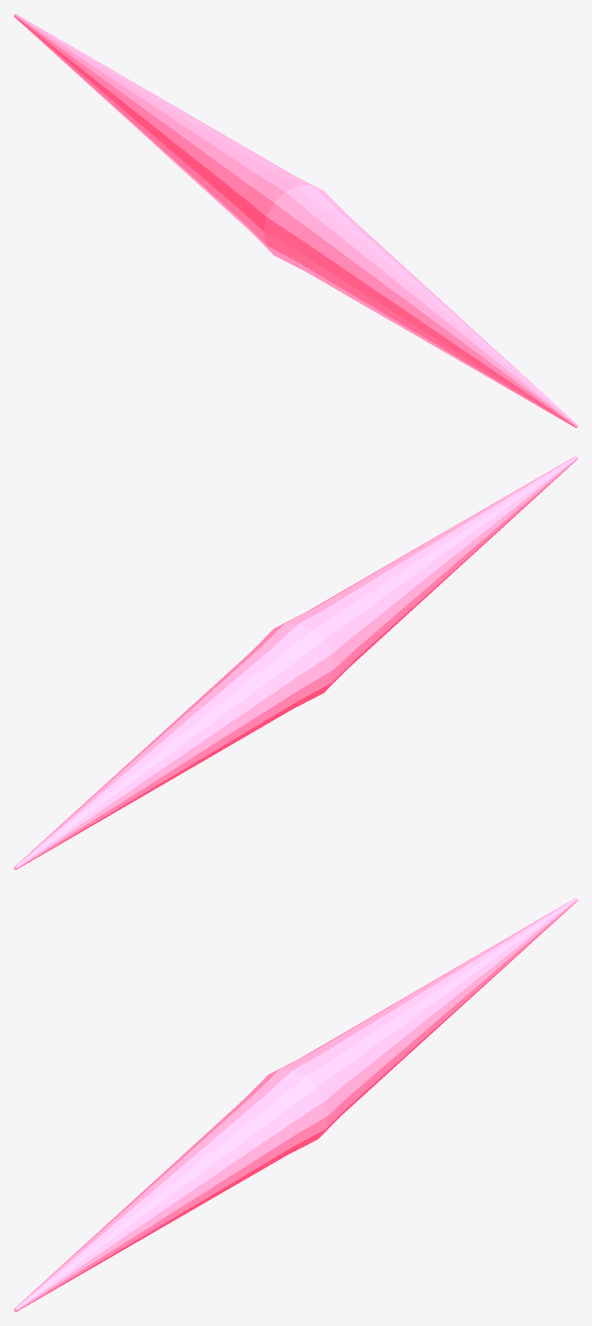
File: RayBullet1.fbx
3 views of the same model, one above another, from view 1: azimuth 30°, elevation 25°; view 2: azimuth 150°, elevation 25°; view 3: azimuth 330°, elevation 25° (orthographic).
Parts seen in each view (by area): view 1: Sphere; view 2: Sphere; view 3: Sphere.
Part boxes in pixels (left/top/right/bottom): Sphere: left=14, top=14, right=577, bottom=427; Sphere: left=14, top=456, right=577, bottom=869; Sphere: left=14, top=898, right=577, bottom=1311.
Bounding box in the file's own units: 2.11 × 2.14 × 29.26.
